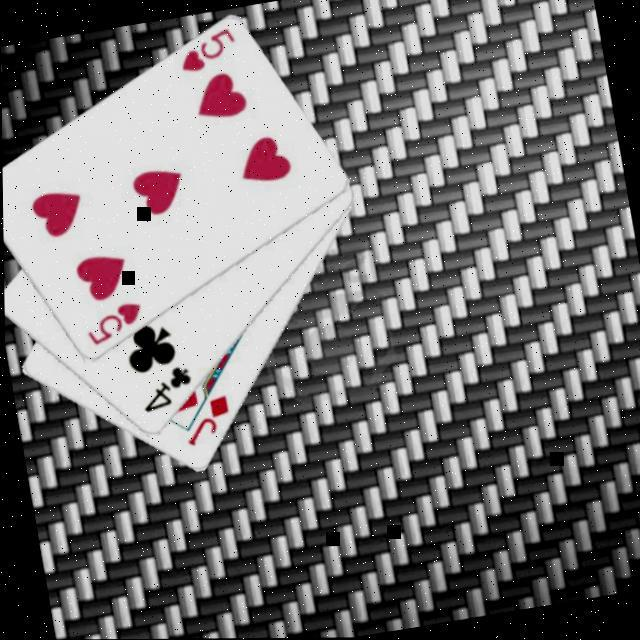4C: (135, 363, 201, 419)
5H: (174, 26, 245, 79), (80, 299, 150, 352)
JD: (179, 394, 240, 453)
